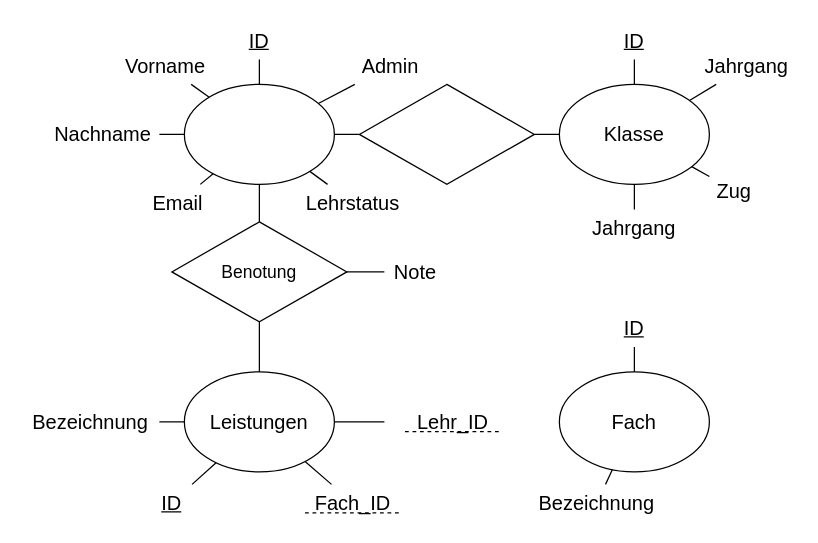
Image size: 818x543. Some labels were removed from this diagram. Each missing label, with the centre of its shape:
Klassen- zugehörigkeit: [446,133]
Nutzer:in: [258,133]
